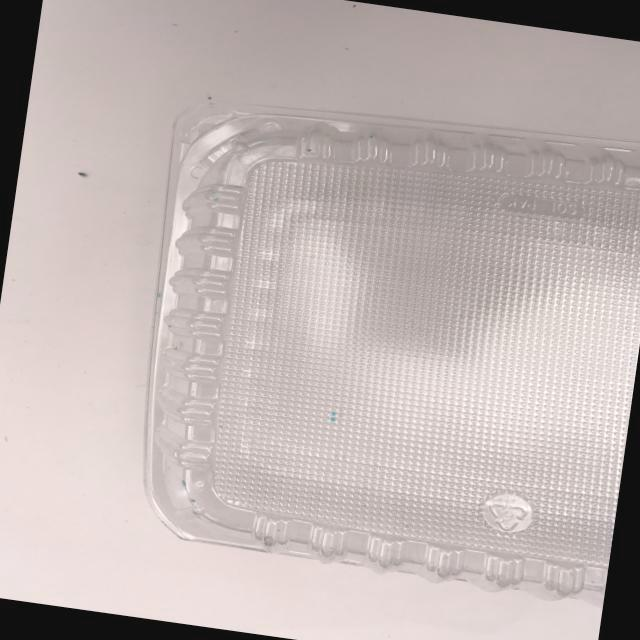plastic: (111, 59, 640, 612)
